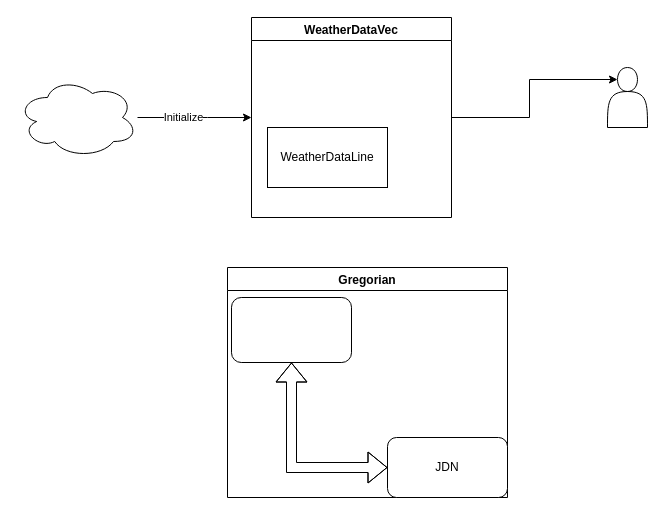
Image size: 665x515. Some labels were removed from this diagram. The centre of each missing label's shape, as x and y in pixels:
"(Y,M,D)" goes at (291,329).
"Raw Data" goes at (77,117).
